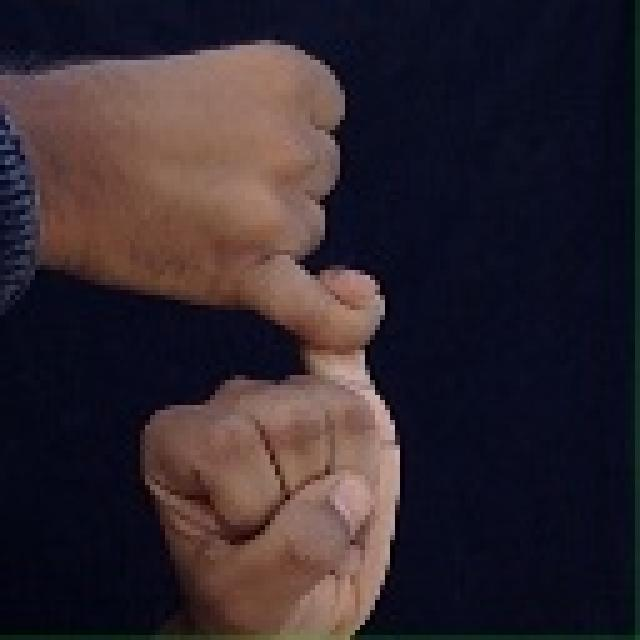Alphabet-S: (4, 29, 415, 640)
